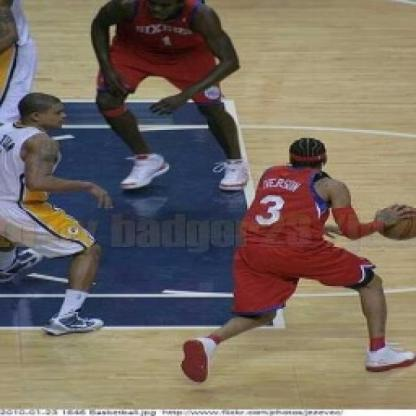basketball: (371, 203, 416, 242)
